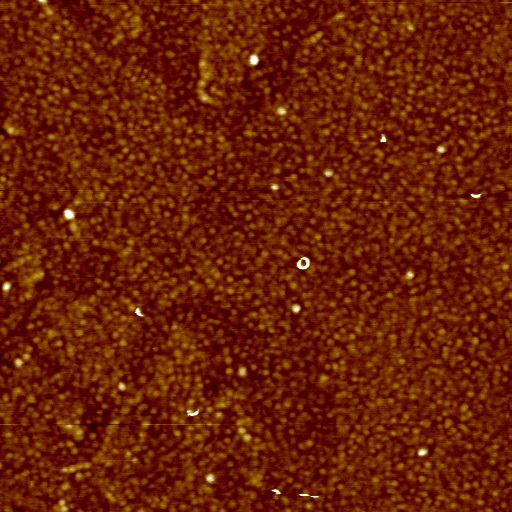-1: (62, 208, 76, 223), (1, 278, 13, 293), (417, 445, 428, 458), (249, 53, 259, 67), (290, 302, 301, 314), (206, 472, 216, 485), (380, 133, 387, 143)
1/4: (298, 491, 322, 500), (131, 305, 145, 318), (468, 189, 484, 200), (181, 409, 202, 417), (270, 485, 283, 497)
4/4: (294, 254, 312, 272)
